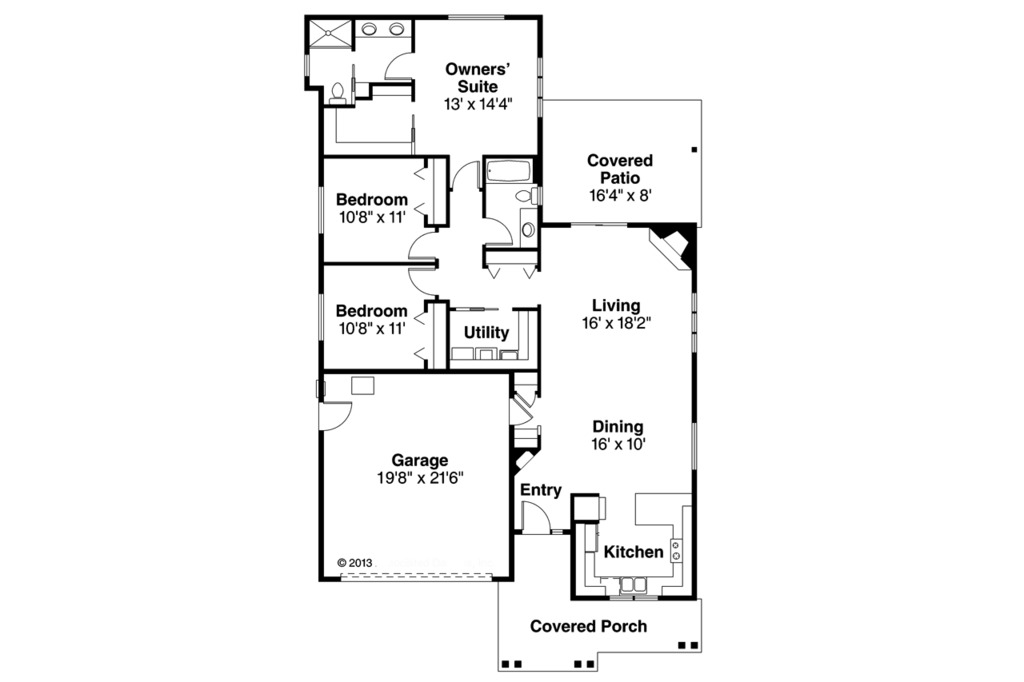door: (518, 495, 559, 536), (479, 211, 519, 250), (315, 397, 356, 435), (405, 261, 444, 298), (446, 154, 485, 190), (407, 229, 444, 261), (379, 51, 417, 81), (511, 380, 546, 407), (506, 395, 536, 426)
large_sink: (322, 76, 349, 107), (511, 186, 540, 206)
small_sink: (356, 15, 412, 35), (519, 205, 539, 247)
tub: (481, 155, 539, 183)
twin_sink: (610, 571, 652, 594)
window: (686, 421, 706, 478), (447, 9, 511, 26), (687, 290, 702, 353), (565, 216, 631, 229), (534, 55, 544, 119), (317, 185, 329, 236), (320, 293, 328, 337), (304, 52, 312, 82)
